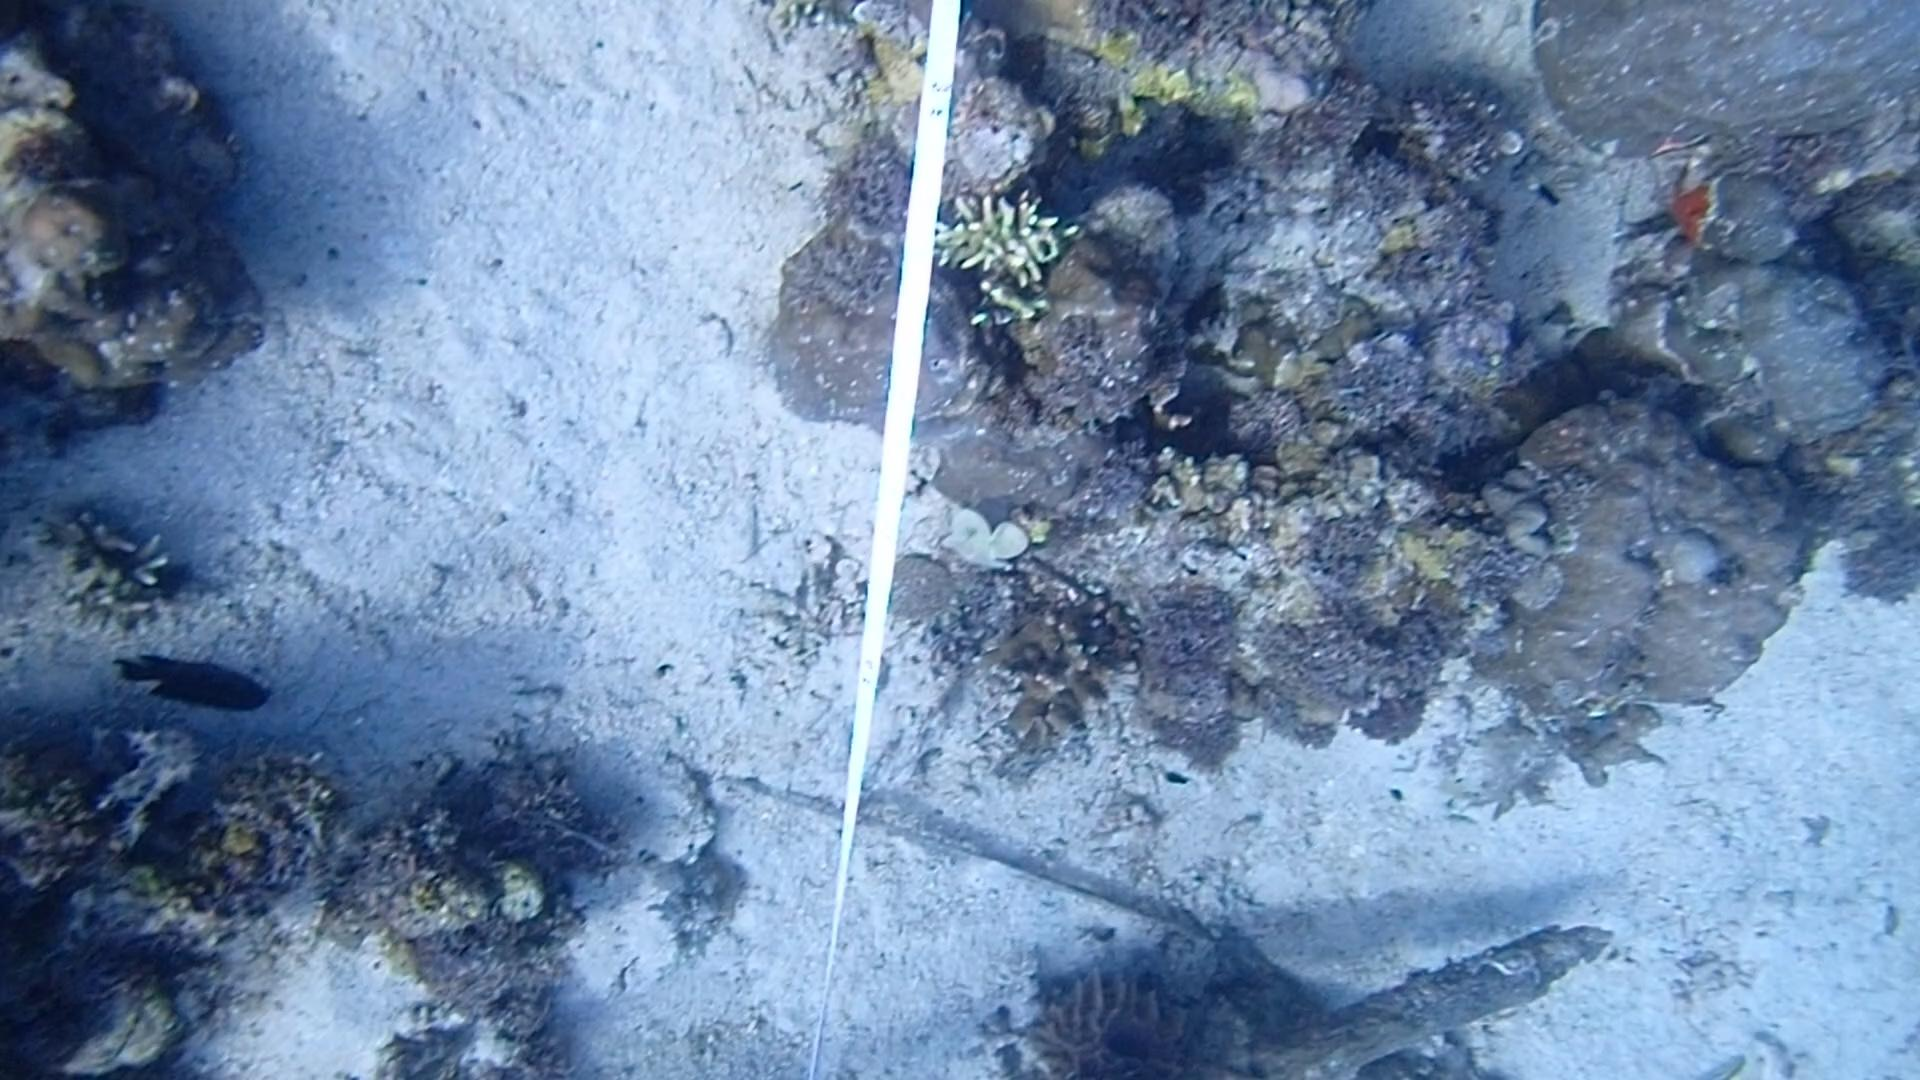Dark Fish: (105, 645, 280, 728)
